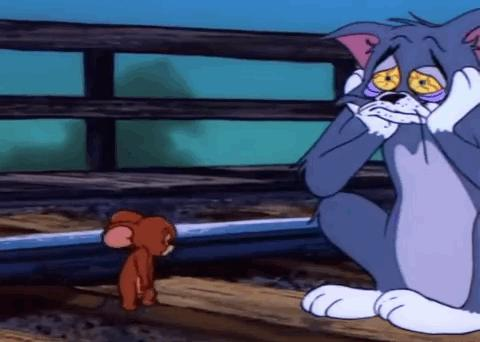jerry: (81, 209, 180, 315)
